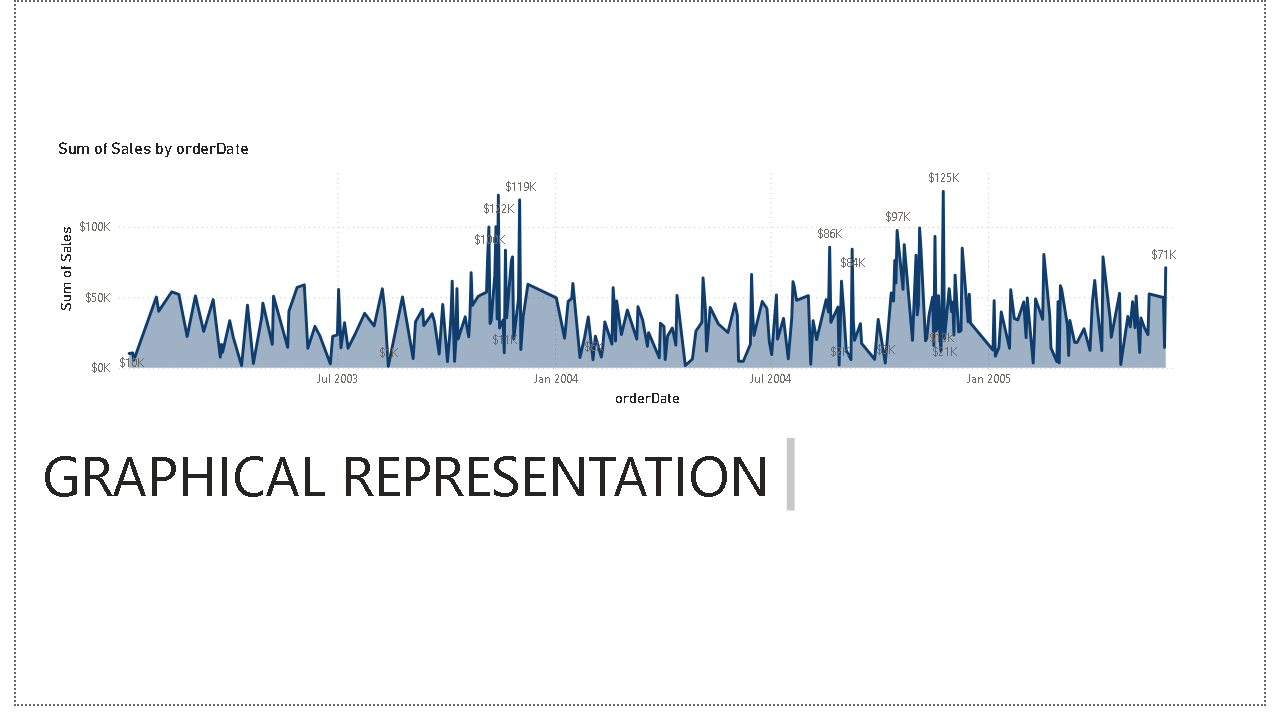

Layout of this report page (visuals, bound fields, positions):
{"tool":"powerbi","page":{"name":"Graph","canvas":[1280,720],"ordinal":5},"visuals":[{"type":"lineChart","fields":{"Y":["Sum(order details.Sales)"],"Category":["orders.orderDate"]},"box":[38.5,139.7,1167.9,279.5],"z":0},{"type":"textbox","box":[21.8,442.3,782.1,101.3],"z":1}]}

Visuals, with their boxes in screenshot pixels (x1, y1, x2, y2), scaled from the page's 1280x720 canvas onto the 1284x714 screenshot:
lineChart - Sum(order details.Sales) x orders.orderDate: region(39, 139, 1210, 416)
textbox: region(22, 439, 806, 539)
